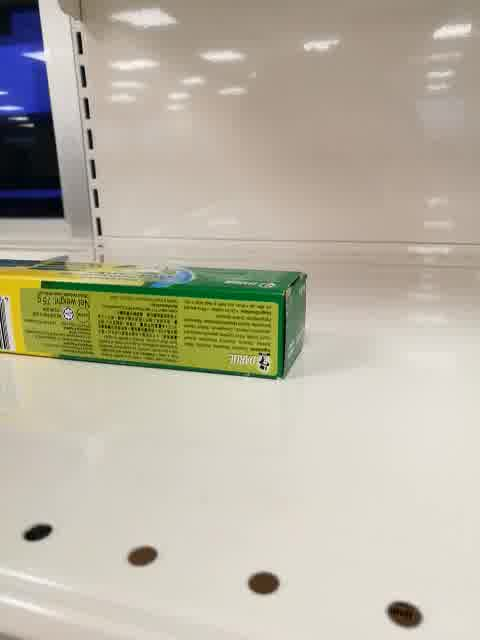toothpaste: (1, 260, 310, 382)
